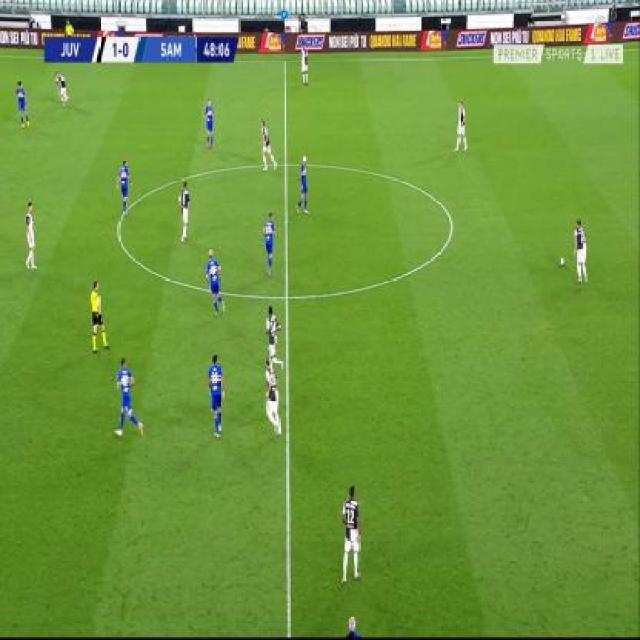ball: (558, 255, 566, 268)
player: (112, 355, 143, 440), (340, 480, 363, 585), (207, 350, 226, 438), (89, 276, 109, 352), (205, 246, 225, 317), (265, 356, 282, 439), (23, 199, 39, 273), (573, 216, 589, 287), (259, 118, 278, 174), (265, 305, 282, 367), (295, 153, 311, 218), (261, 212, 277, 277), (116, 159, 133, 216), (454, 98, 470, 154), (14, 79, 31, 128), (178, 180, 191, 243), (203, 98, 216, 151), (54, 69, 70, 106), (345, 615, 364, 640), (300, 44, 309, 86), (64, 18, 75, 40)
